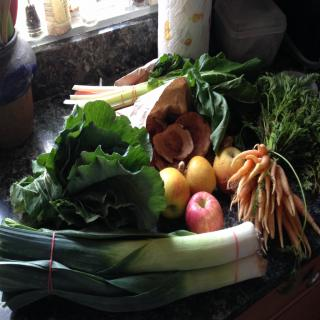Carrot: (227, 143, 320, 259), (232, 147, 261, 166)
